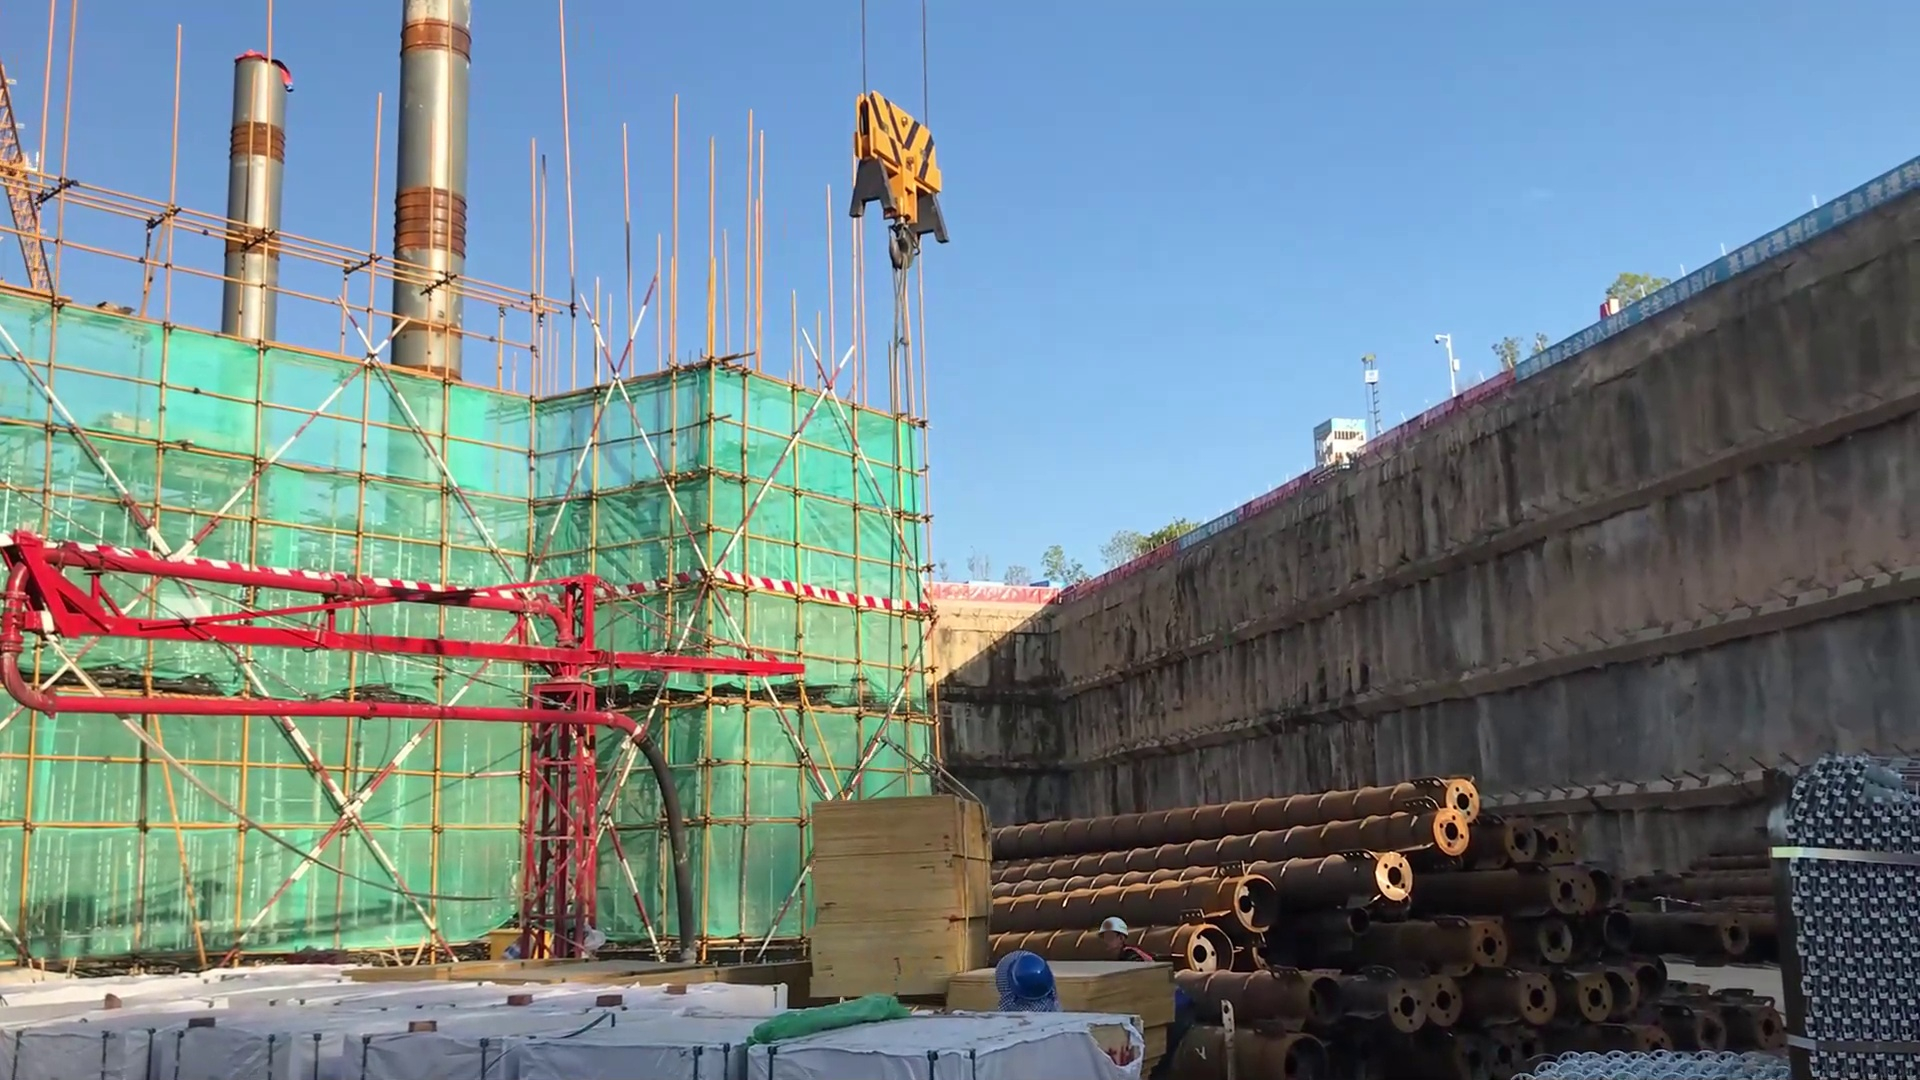board: (794, 795, 997, 1011), (947, 954, 1180, 1065)
ebox: (484, 924, 561, 970)
helmet: (997, 941, 1058, 1006), (1097, 916, 1129, 948)
hook: (818, 80, 980, 369)
person: (1097, 908, 1193, 1071)
scaffold: (1772, 756, 1920, 1070)
slogan: (1509, 156, 1920, 399), (1179, 502, 1244, 555)
